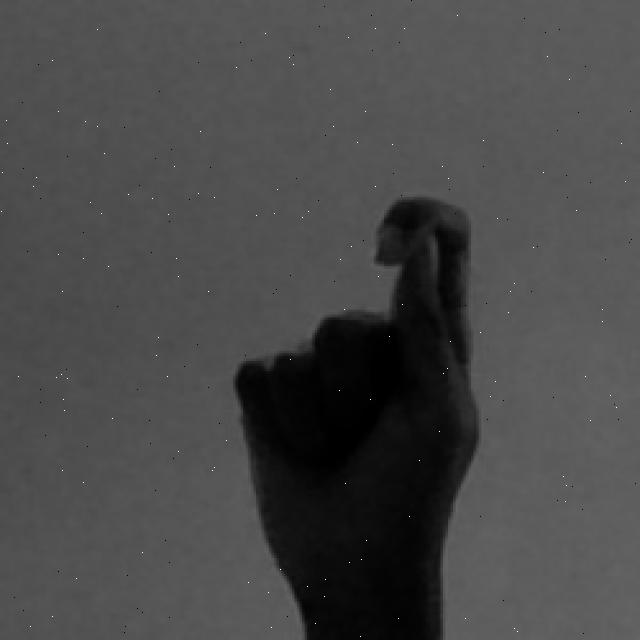T: (230, 187, 492, 640)
